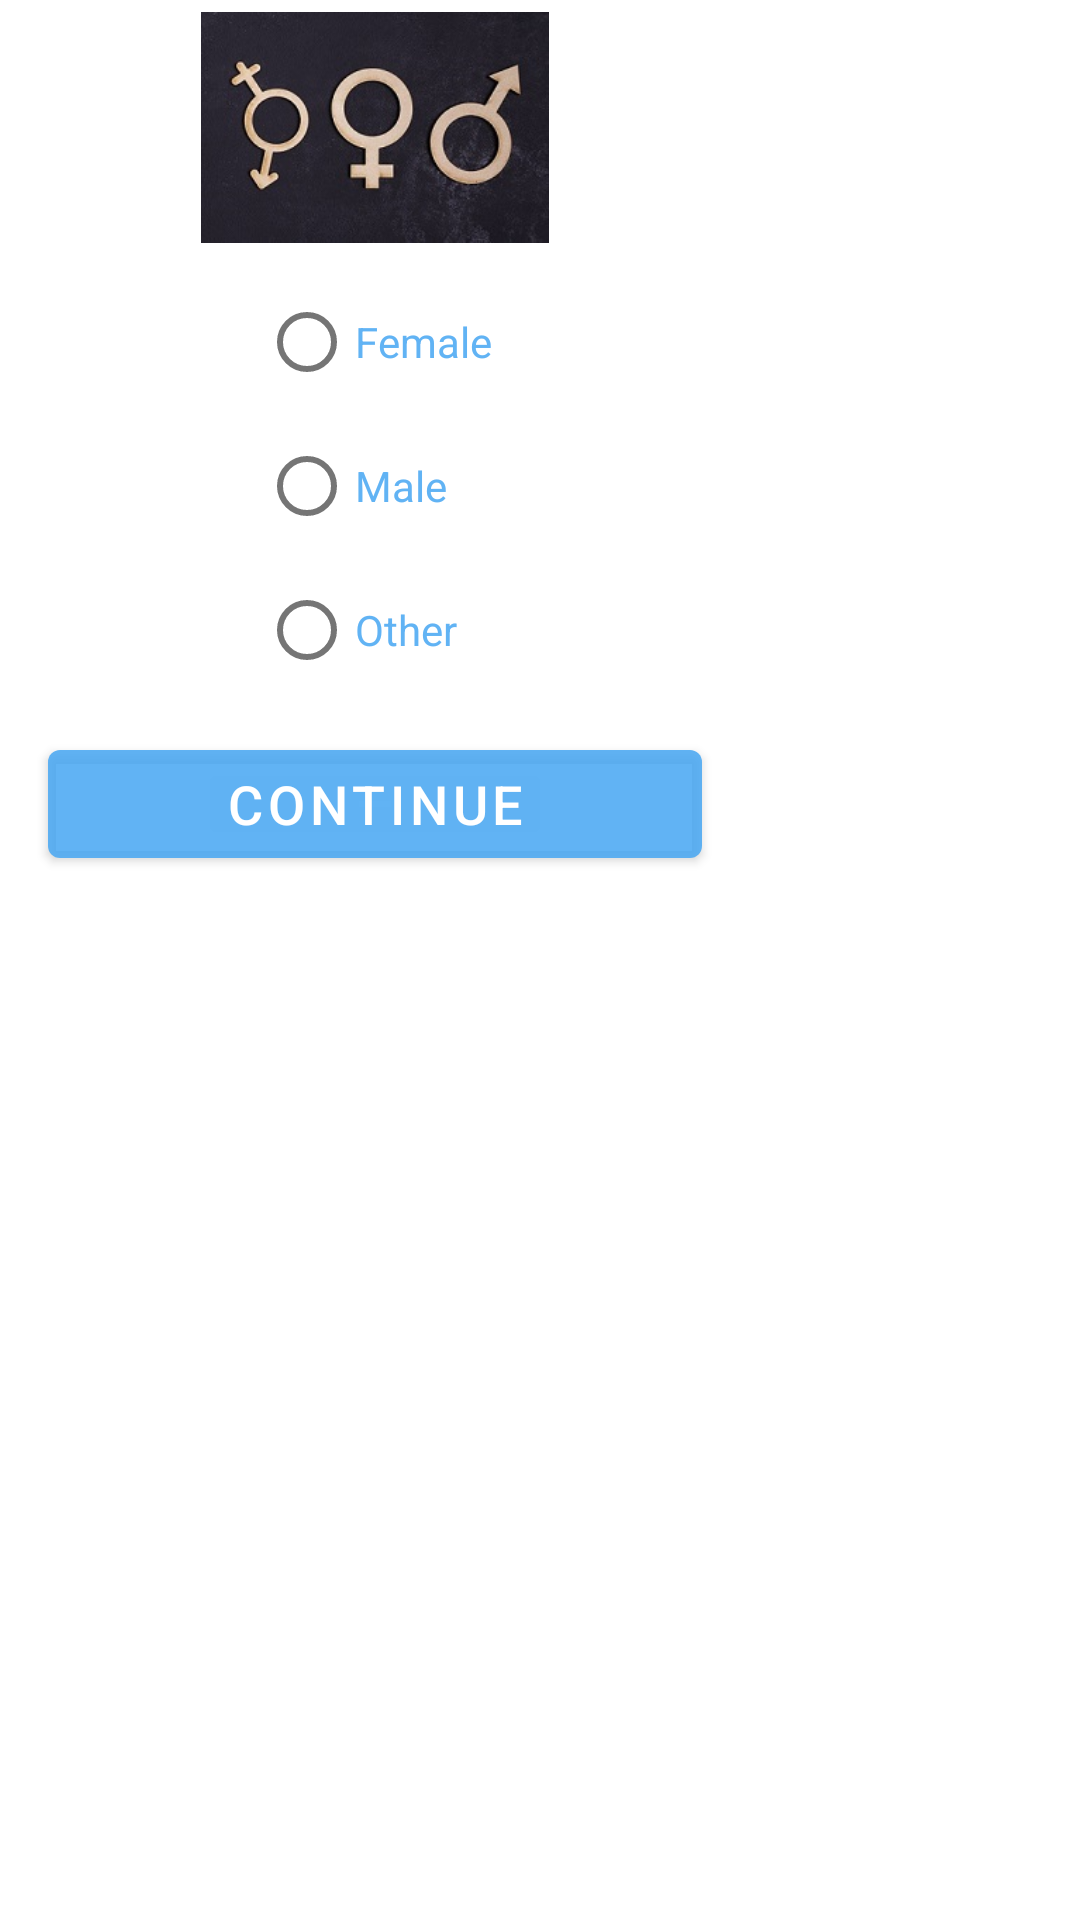

Point at icon controls on the screen. Image size 1080x1920, points as (x=x, y=y).
threegendericon: (x=375, y=127)
